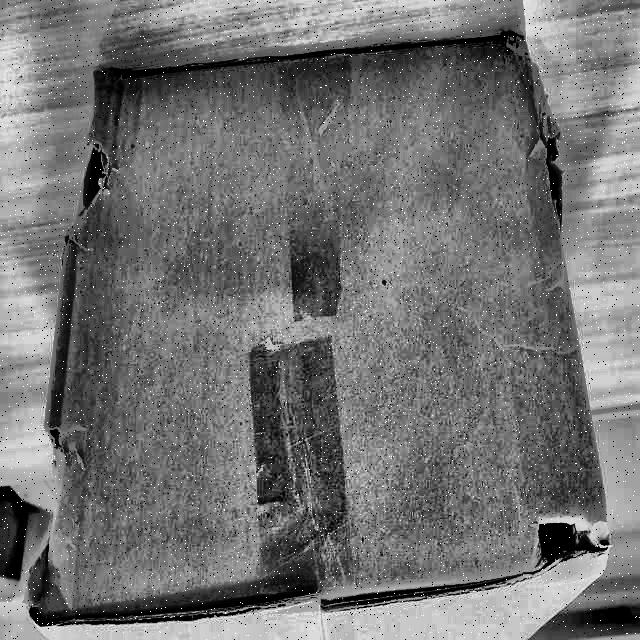box: (17, 25, 622, 640)
hole: (510, 501, 601, 578), (517, 108, 571, 228), (69, 137, 118, 241)
